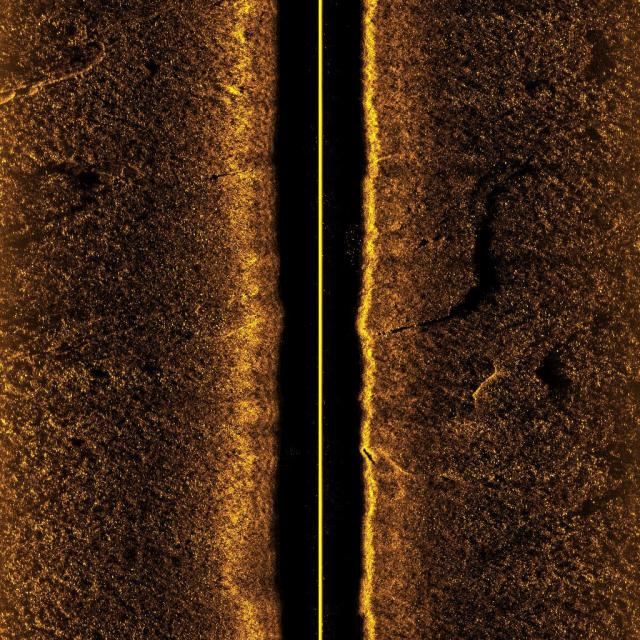mine: (352, 439, 381, 469)
